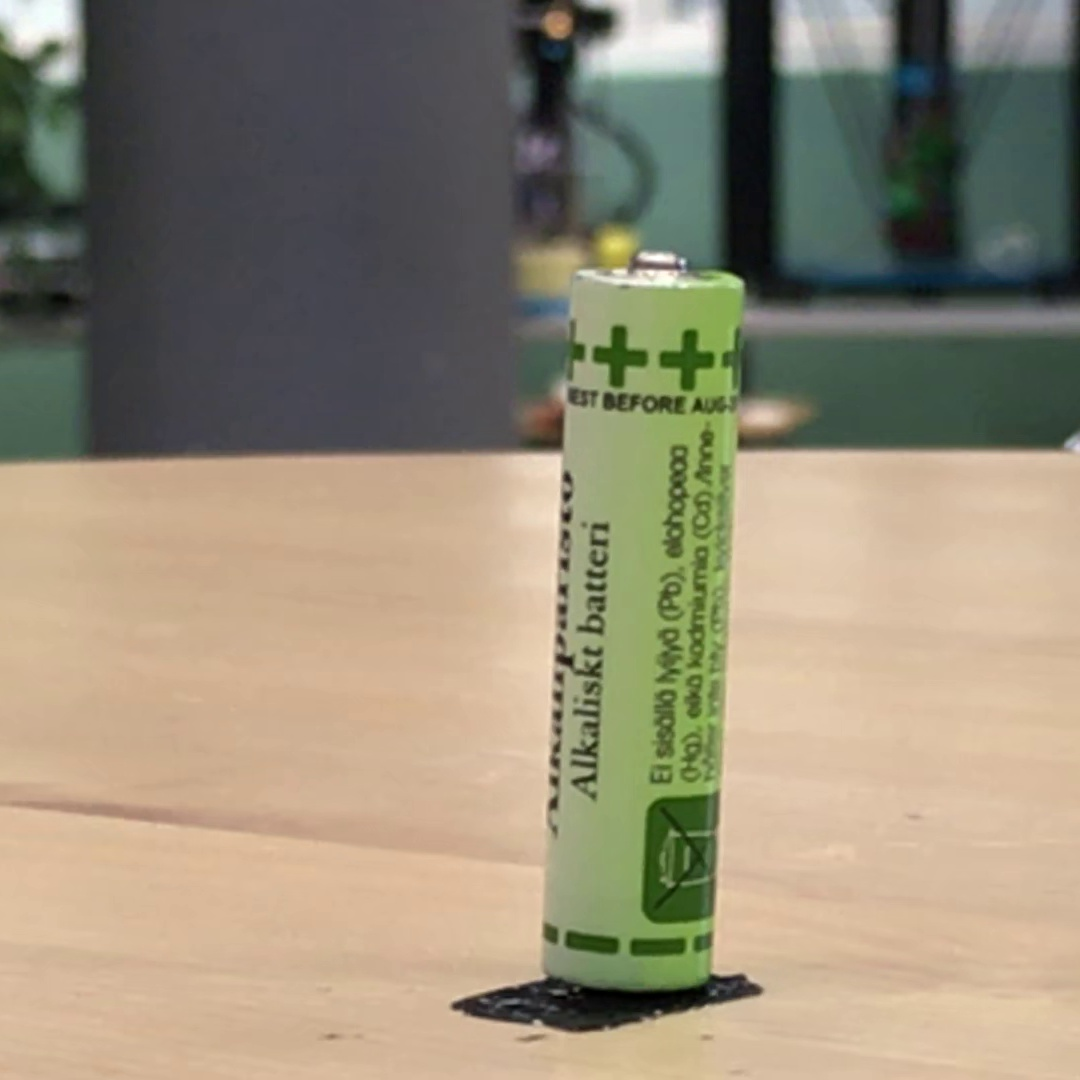keyword: (560, 743, 611, 811)
